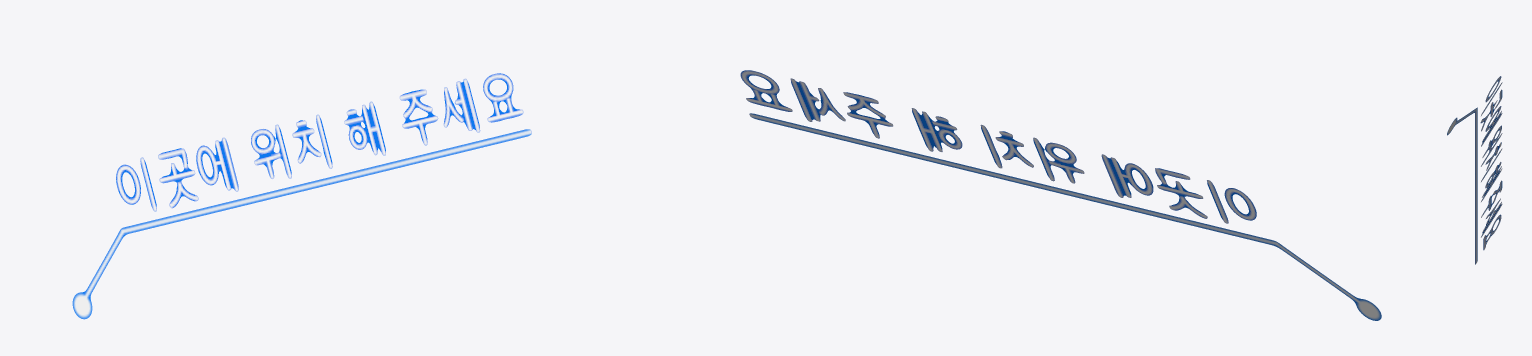
Rendered from start_point_2.fbx.
3 views of the same model, side by side, from view 1: azimuth 30°, elevation 25°; view 2: azimuth 150°, elevation 25°; view 3: azimuth 270°, elevation 25° (orthographic). The views are drawn at different scales.
Parts seen in each view (by area): view 1: pPlane6; view 2: pPlane6; view 3: pPlane6.
Part boxes in pixels (left/top/right/bottom): pPlane6: left=72, top=73, right=531, bottom=319; pPlane6: left=740, top=70, right=1381, bottom=320; pPlane6: left=1447, top=76, right=1502, bottom=264.
Bounding box in the file's own units: 17.9 × 4.92 × 2.84.
